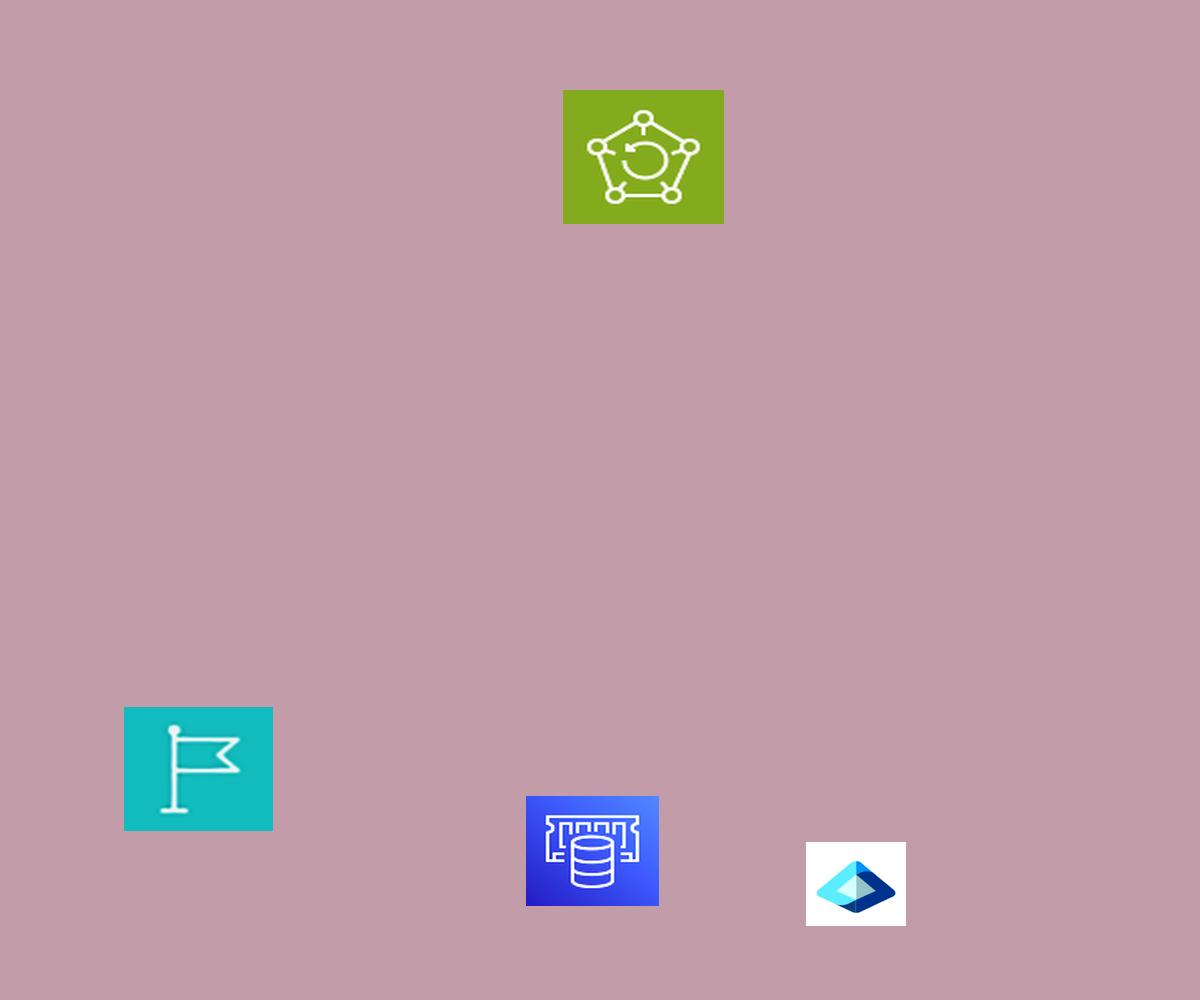AWS-Backup: (563, 90, 724, 224)
AWS-ElastiCache: (526, 796, 659, 906)
AWS-Region: (124, 707, 273, 831)
Azure_microsoft_entra: (806, 842, 906, 926)
